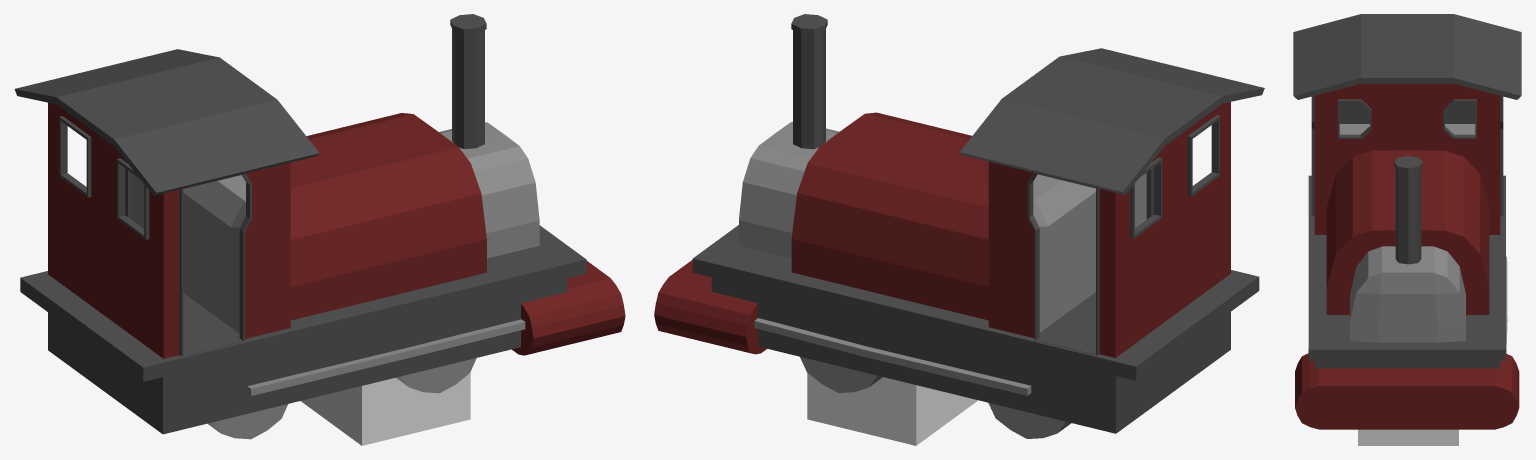
The model's file is steamer040.fbx.
The picture shows the model from 3 angles, left to right: view 1: azimuth 30°, elevation 25°; view 2: azimuth 150°, elevation 25°; view 3: azimuth 270°, elevation 25°; orthographic projection. The views are drawn at different scales.
Parts seen in each view (by area): view 1: Cube, Cube.001; view 2: Cube, Cube.001; view 3: Cube, Cube.001.
Boxes of the visible parts, box(x1,y1,x2,y2) form: Cube: box(14, 14, 625, 439); Cube.001: box(301, 372, 470, 445); Cube: box(654, 14, 1264, 438); Cube.001: box(807, 373, 977, 445); Cube: box(1293, 14, 1521, 429); Cube.001: box(1358, 429, 1458, 445).
Bounding box in the file's own units: 188 × 139 × 97.65.
